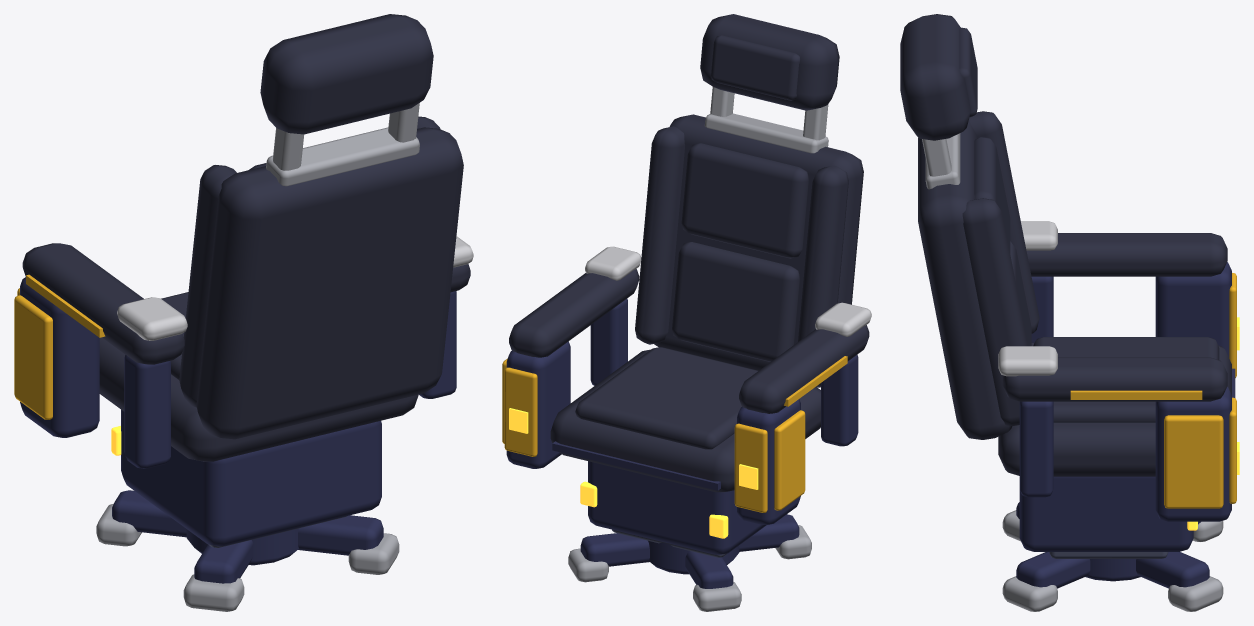
File: prop.props_bridge.pilot_chair.glb
The picture shows the model from 3 angles, left to right: view 1: azimuth 30°, elevation 25°; view 2: azimuth 150°, elevation 25°; view 3: azimuth 270°, elevation 25°; orthographic projection. The views are drawn at different scales.
Visible parts, largest first — view 1: prop.props_bridge.pilot_chair; view 2: prop.props_bridge.pilot_chair; view 3: prop.props_bridge.pilot_chair.
Boxes of the visible parts, <box> form: prop.props_bridge.pilot_chair: <box>14,14,473,611</box>; prop.props_bridge.pilot_chair: <box>502,14,871,611</box>; prop.props_bridge.pilot_chair: <box>900,14,1239,611</box>.
Size of the model in its own units: 0.844 by 1.38 by 0.7988.
